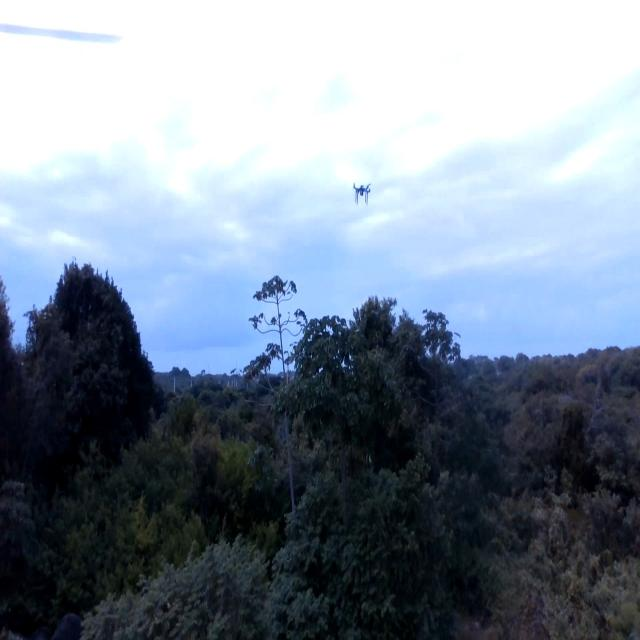-uav-: (351, 176, 372, 208)
